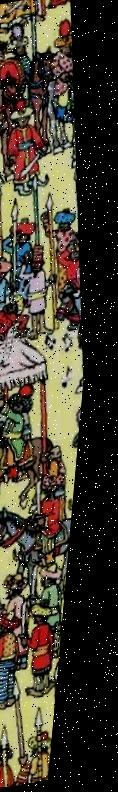waldo: (0, 34, 10, 61)
